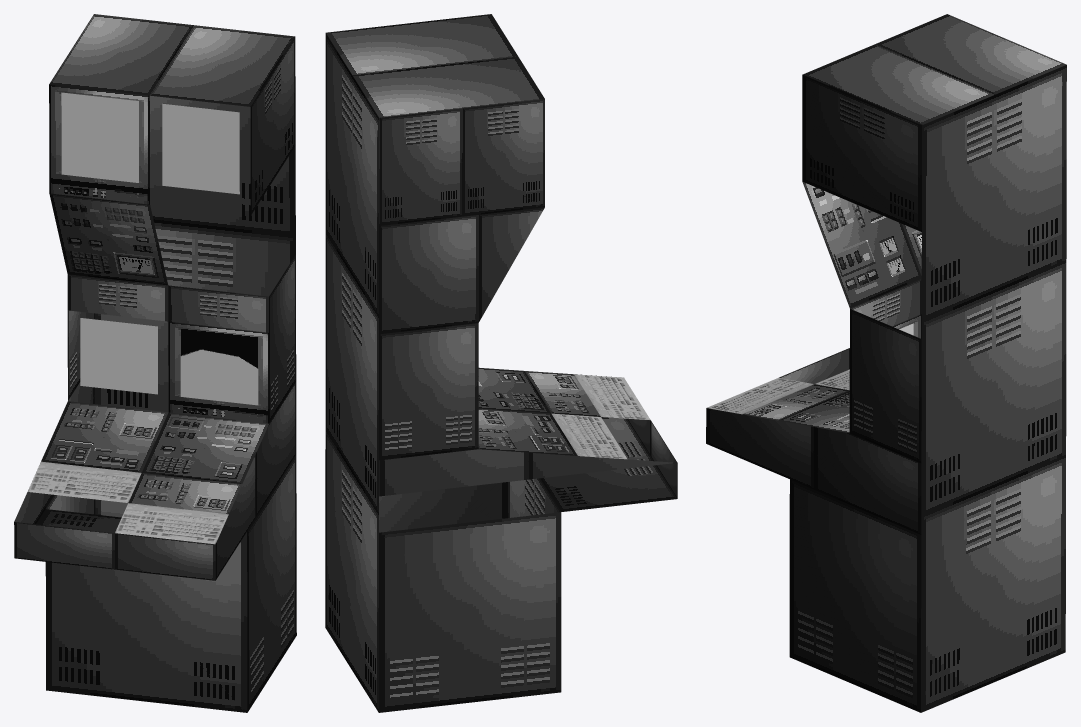
Rendered from primary_182.glb.
3 renders of one model, left to right at view 1: azimuth 30°, elevation 25°; view 2: azimuth 150°, elevation 25°; view 3: azimuth 270°, elevation 25°, orthographic.
Visible parts, largest first — view 1: Object; view 2: Object; view 3: Object.
Part boxes in pixels (box(x1,y1,x2,y2)): Object: box(14, 14, 296, 712); Object: box(325, 14, 677, 712); Object: box(706, 14, 1066, 712).
Bounding box in the file's own units: 1.69 × 3.05 × 1.7.
26 materials, 26 textured.
